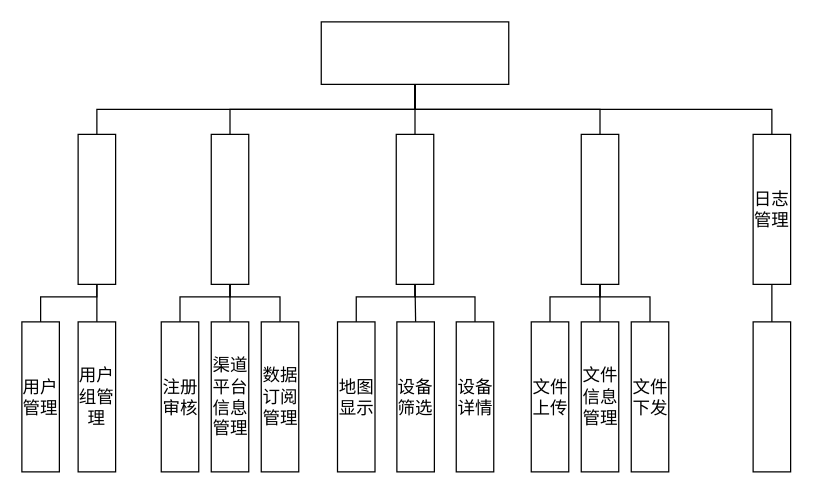
This 813x494 diagram has some shape labels left out. Here are the shapes that lost their labels. From the top down, the centre of each, then its label:
At pixel 414 52: "物联网管理平台".
At pixel 96 208: "系统管理".
At pixel 229 208: "渠道平台管理".
At pixel 414 208: "设备管理".
At pixel 599 208: "文件管理".
At pixel 771 396: "日志显示".
